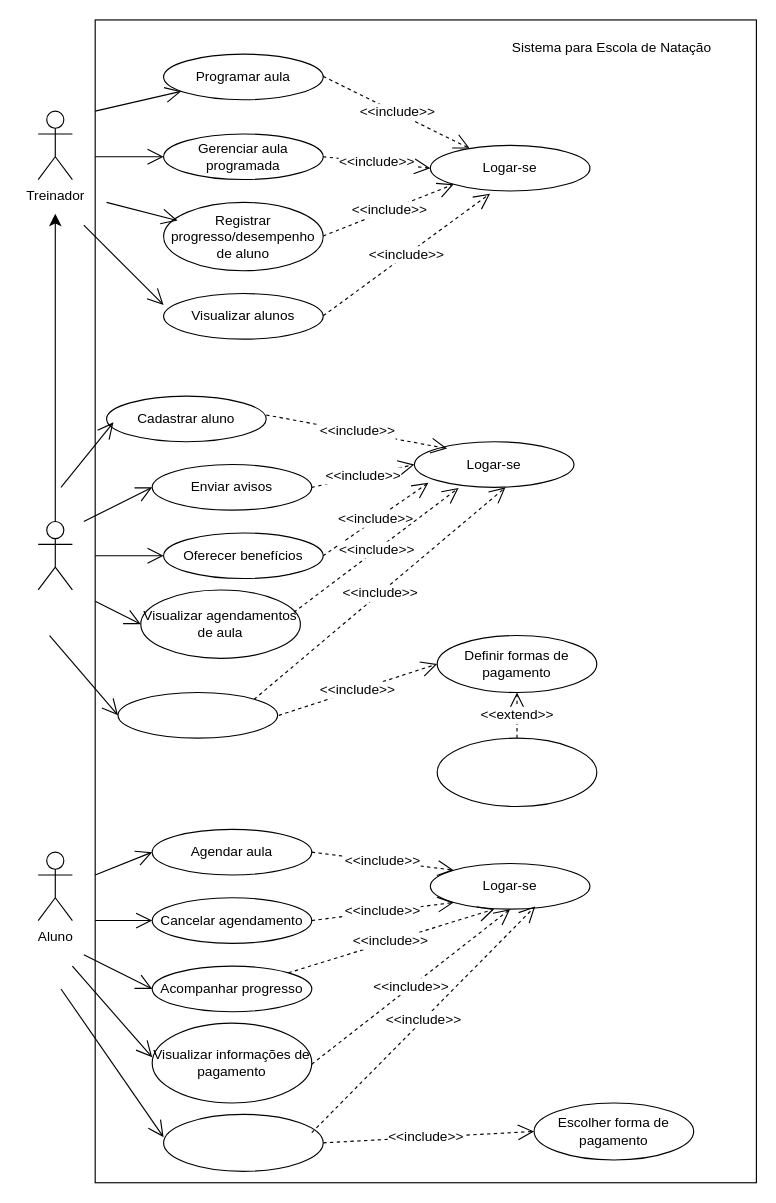
This 776x1203 diagram has some shape labels left out. Here are the shapes that lost their labels. From the top down, the centre of each, then its label:
At [54,555]: "Funcionário".
At [197,714]: "Gerenciar pagamento".
At [516,772]: "Optar por cartão, pix ou dinheiro".
At [242,1142]: "Realizar pagamento".
